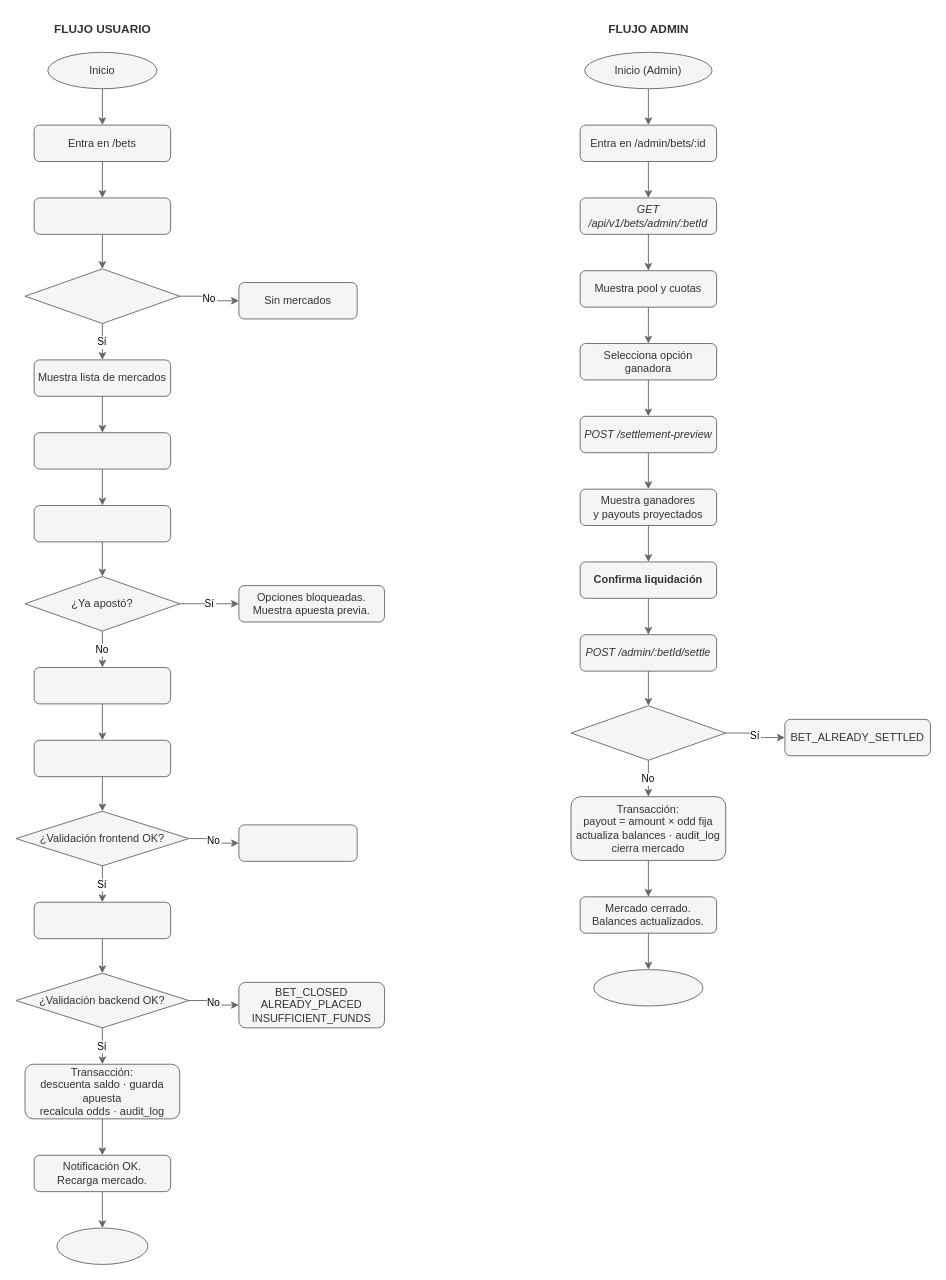
The diagram is 946 pixels wide and 1280 high, and some of its shapes have lost their labels. The centre of each missing label's shape, as x and y in pixels:
Error local: the point at 297,842
Fin: the point at 102,1245
Fin (Admin): the point at 648,987
GET /api/v1/bets: the point at 102,215
GET /api/v1/bets/:betId: the point at 102,523
POST /api/v1/bets/:betId/place: the point at 102,920
Pulsa Apostar: the point at 102,758
Selecciona mercado → /bets/:betId: the point at 102,450
Selecciona opción e introduce importe: the point at 102,685
¿Mercados open?: the point at 102,296
¿Ya liquidado?: the point at 648,732
